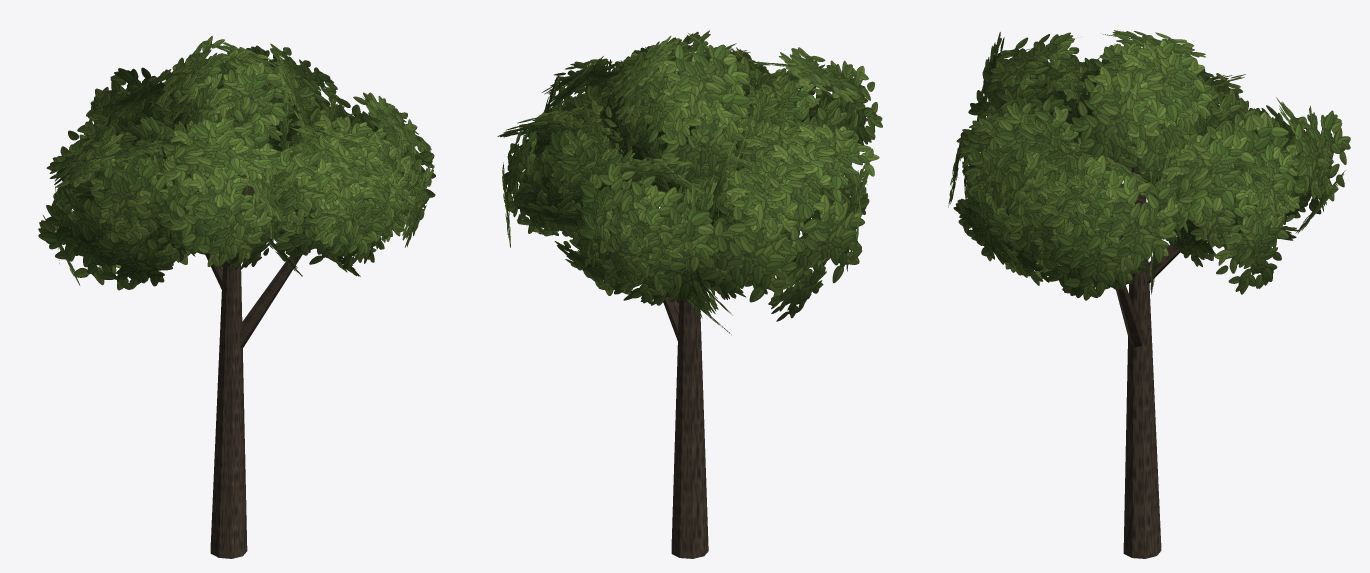
File: quercia_3.glb
The picture shows the model from 3 angles, left to right: view 1: azimuth 30°, elevation 25°; view 2: azimuth 150°, elevation 25°; view 3: azimuth 270°, elevation 25°; orthographic projection. The views are drawn at different scales.
Parts seen in each view (by area): view 1: quercia_3; view 2: quercia_3; view 3: quercia_3.
Part boxes in pixels (x1,y1,x2,y2): quercia_3: (38, 36, 435, 558); quercia_3: (497, 30, 882, 558); quercia_3: (948, 30, 1350, 558).
Size of the model in its own units: 8.32 by 10.88 by 7.74.
2 materials, 2 textured.
